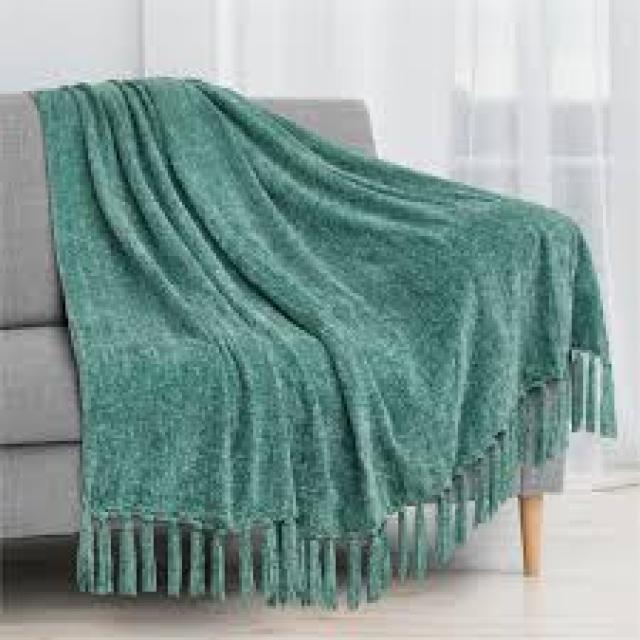blanket: (38, 81, 613, 607)
